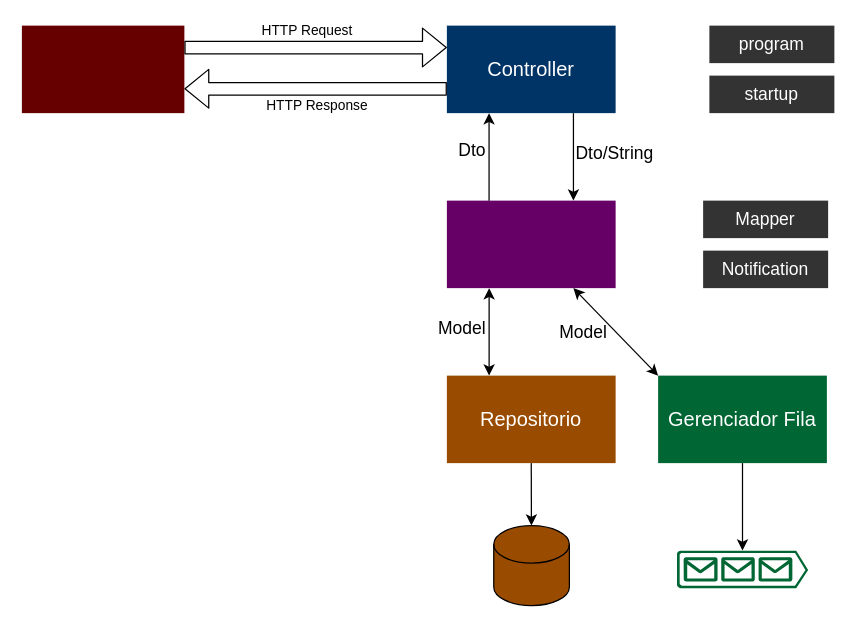
Some shapes in this 855 by 628 pixel diagram are drawn without their labels. The centre of each missing label's shape, as x and y in pixels:
"API Client" belongs at [102,68].
"Services" belongs at [530,244].
